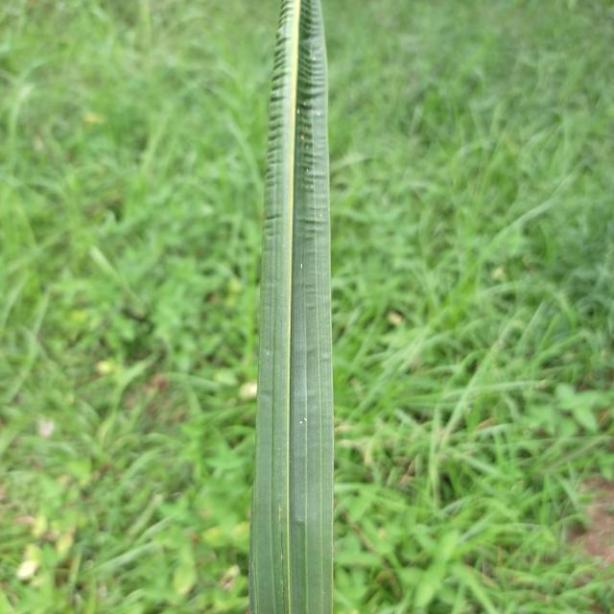Boron: (244, 0, 336, 614)
